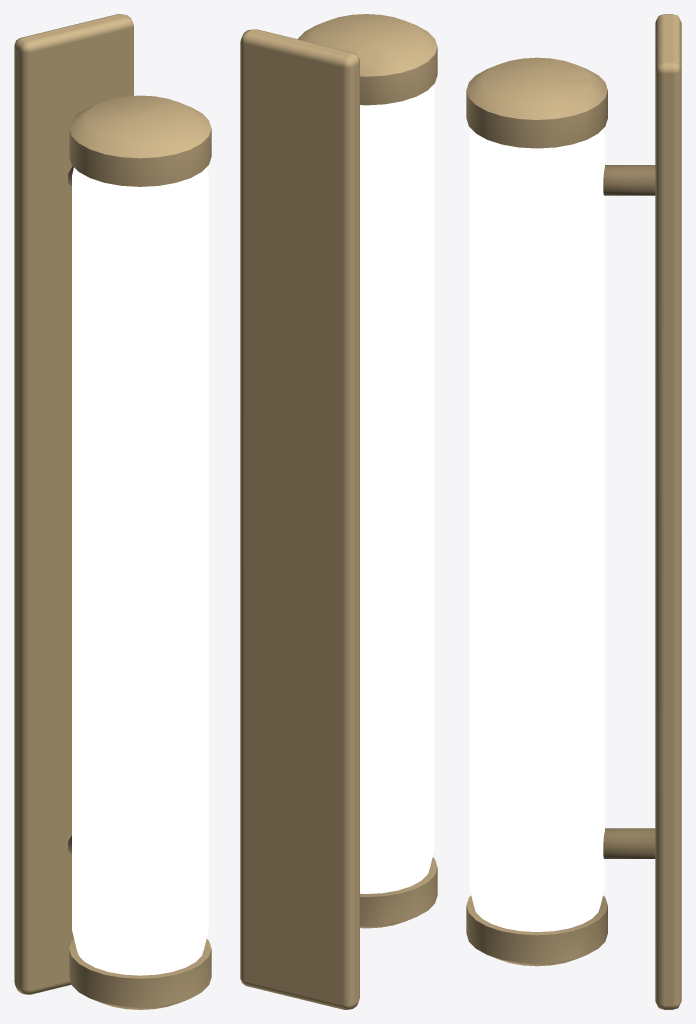
The model's file is bath_sconce.gltf.
3 views of the same model, side by side, from view 1: azimuth 30°, elevation 25°; view 2: azimuth 150°, elevation 25°; view 3: azimuth 270°, elevation 25° (orthographic).
Visible parts, largest first — view 1: BathSconce_Light, BathSconce_PipingBrass; view 2: BathSconce_PipingBrass, BathSconce_Light; view 3: BathSconce_Light, BathSconce_PipingBrass.
Boxes of the visible parts, box(x1,y1,x2,y2) form: BathSconce_Light: box(72, 167, 208, 975); BathSconce_PipingBrass: box(14, 14, 211, 1009); BathSconce_PipingBrass: box(240, 14, 437, 1009); BathSconce_Light: box(360, 86, 434, 893); BathSconce_Light: box(469, 129, 604, 931); BathSconce_PipingBrass: box(466, 14, 681, 1009).
Size of the model in its own units: 0.0541 by 0.4 by 0.0822.
